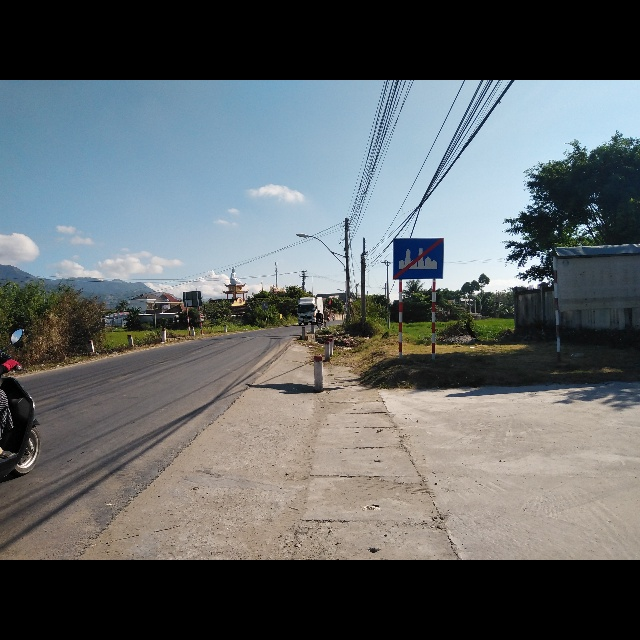Hết khu đông dân cư: (391, 236, 445, 279)
